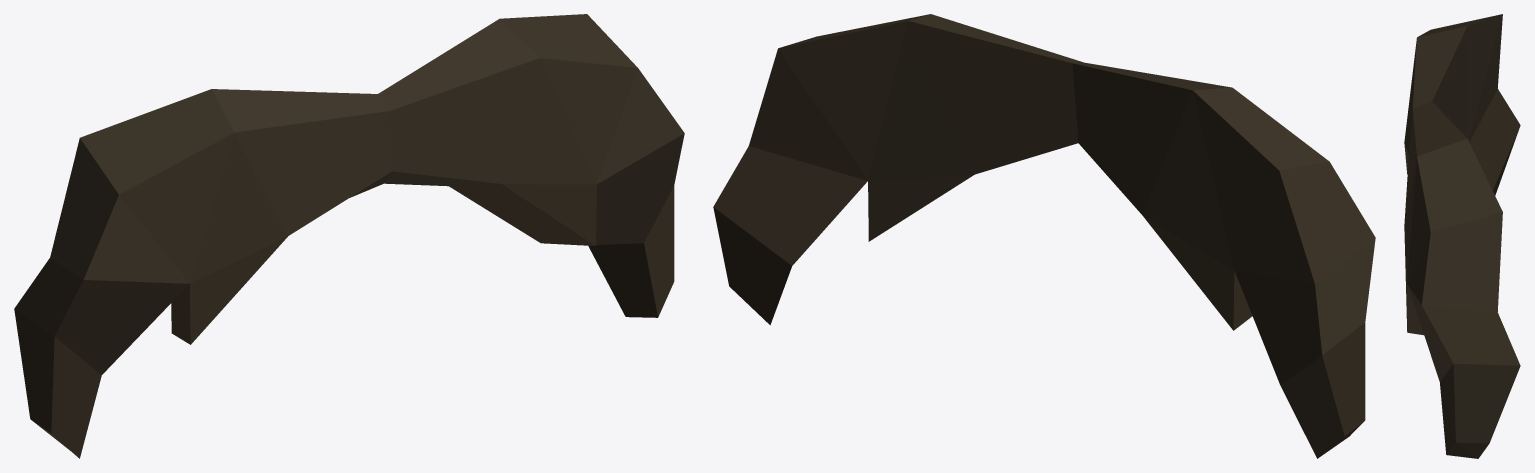
Rendered from SM_Chr_Attach_Beard_08_Mustache.fbx.
The picture shows the model from 3 angles, left to right: view 1: azimuth 30°, elevation 25°; view 2: azimuth 150°, elevation 25°; view 3: azimuth 270°, elevation 25°; orthographic projection. The views are drawn at different scales.
Parts seen in each view (by area): view 1: SM_Chr_Attach_Beard_08_Mustache; view 2: SM_Chr_Attach_Beard_08_Mustache; view 3: SM_Chr_Attach_Beard_08_Mustache.
Boxes of the visible parts, x1=… form: SM_Chr_Attach_Beard_08_Mustache: x1=14, y1=14, x2=684, y2=458; SM_Chr_Attach_Beard_08_Mustache: x1=713, y1=14, x2=1375, y2=458; SM_Chr_Attach_Beard_08_Mustache: x1=1404, y1=14, x2=1520, y2=458.
Size of the model in its own units: 15.95 by 8.21 by 3.22.
